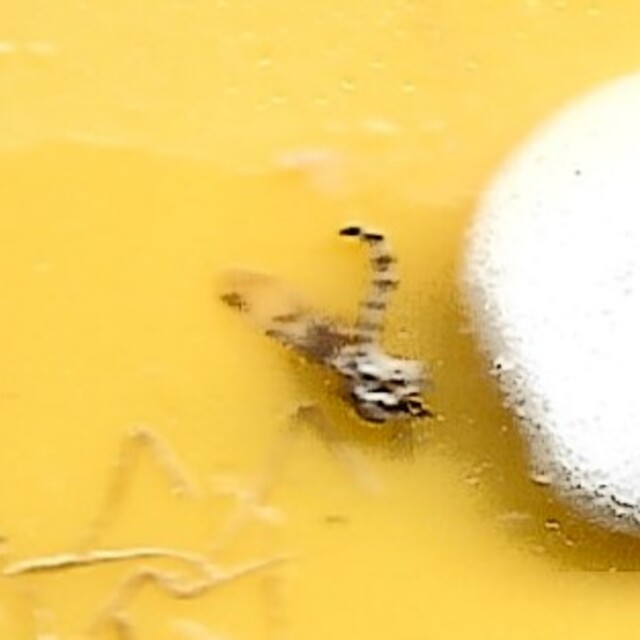Nematocera: (204, 201, 436, 439)
